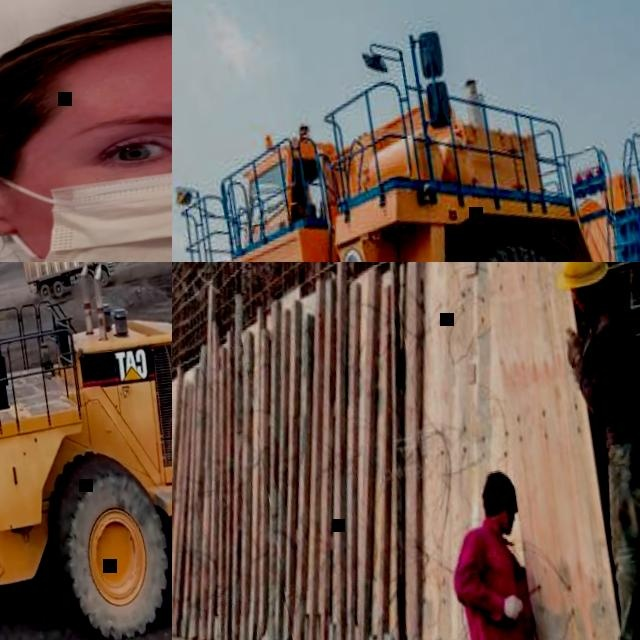Hardhat: (554, 262, 610, 293)
Mask: (0, 115, 172, 262)
NO-Hardhat: (0, 0, 172, 130), (478, 466, 522, 522)
NO-Mask: (493, 513, 517, 538), (575, 288, 598, 313)
NO-Safety Vest: (575, 291, 640, 448), (451, 526, 539, 640)
Person: (0, 0, 172, 262), (528, 262, 640, 640), (433, 461, 558, 640)
machinery: (172, 0, 640, 262), (0, 262, 172, 640), (12, 262, 122, 313)
